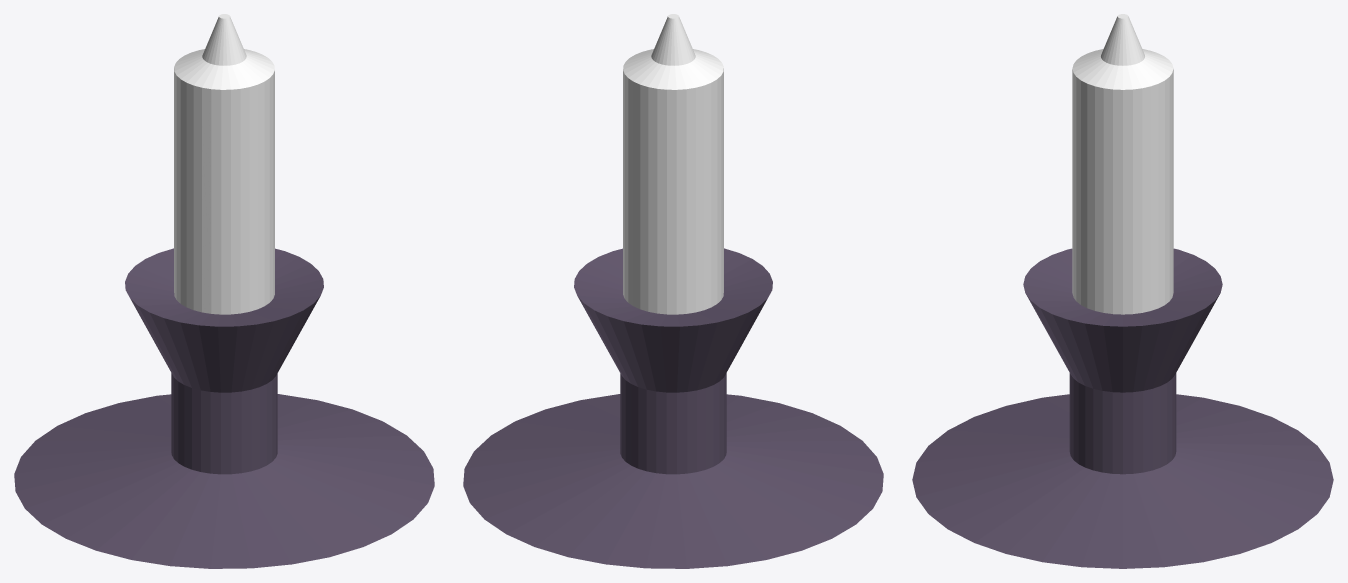
The model's file is table_candle.fbx.
The picture shows the model from 3 angles, left to right: view 1: azimuth 30°, elevation 25°; view 2: azimuth 150°, elevation 25°; view 3: azimuth 270°, elevation 25°; orthographic projection.
Visible parts, largest first — view 1: table_candle; view 2: table_candle; view 3: table_candle.
Boxes of the visible parts, left/top/right/bottom form: table_candle: left=14, top=14, right=434, bottom=568; table_candle: left=463, top=14, right=883, bottom=568; table_candle: left=912, top=14, right=1333, bottom=568.
Size of the model in its own units: 35.59 by 43.2 by 35.59.
